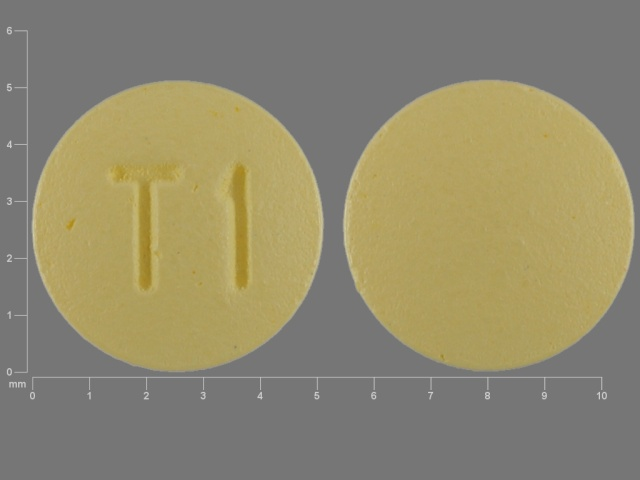1: (215, 163, 265, 298)
T: (97, 159, 192, 297)
